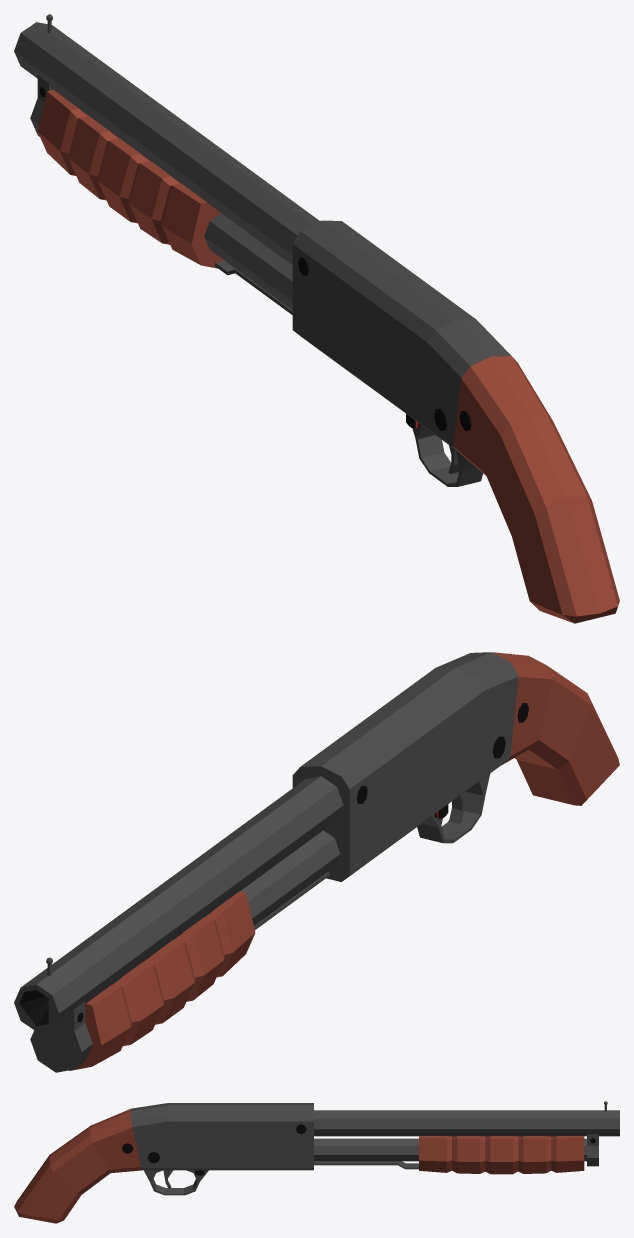
Rendered from shotgun.lod2.glb.
3 renders of one model, top to bottom at view 1: azimuth 30°, elevation 25°; view 2: azimuth 150°, elevation 25°; view 3: azimuth 270°, elevation 25°, orthographic. The views are drawn at different scales.
Parts seen in each view (by area): view 1: Shotgun_Pump_West; view 2: Shotgun_Pump_West; view 3: Shotgun_Pump_West.
Part boxes in pixels (x1=…): Shotgun_Pump_West: x1=14, y1=14, x2=619, y2=623; Shotgun_Pump_West: x1=14, y1=652, x2=619, y2=1072; Shotgun_Pump_West: x1=14, y1=1101, x2=619, y2=1223.
Size of the model in its own units: 0.046 by 0.1266 by 0.5966.
